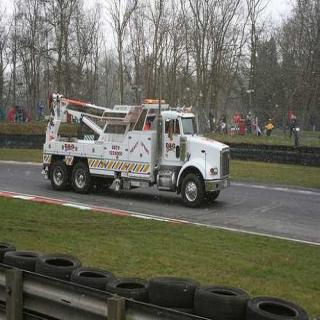Towing_truck: (40, 90, 232, 208)
